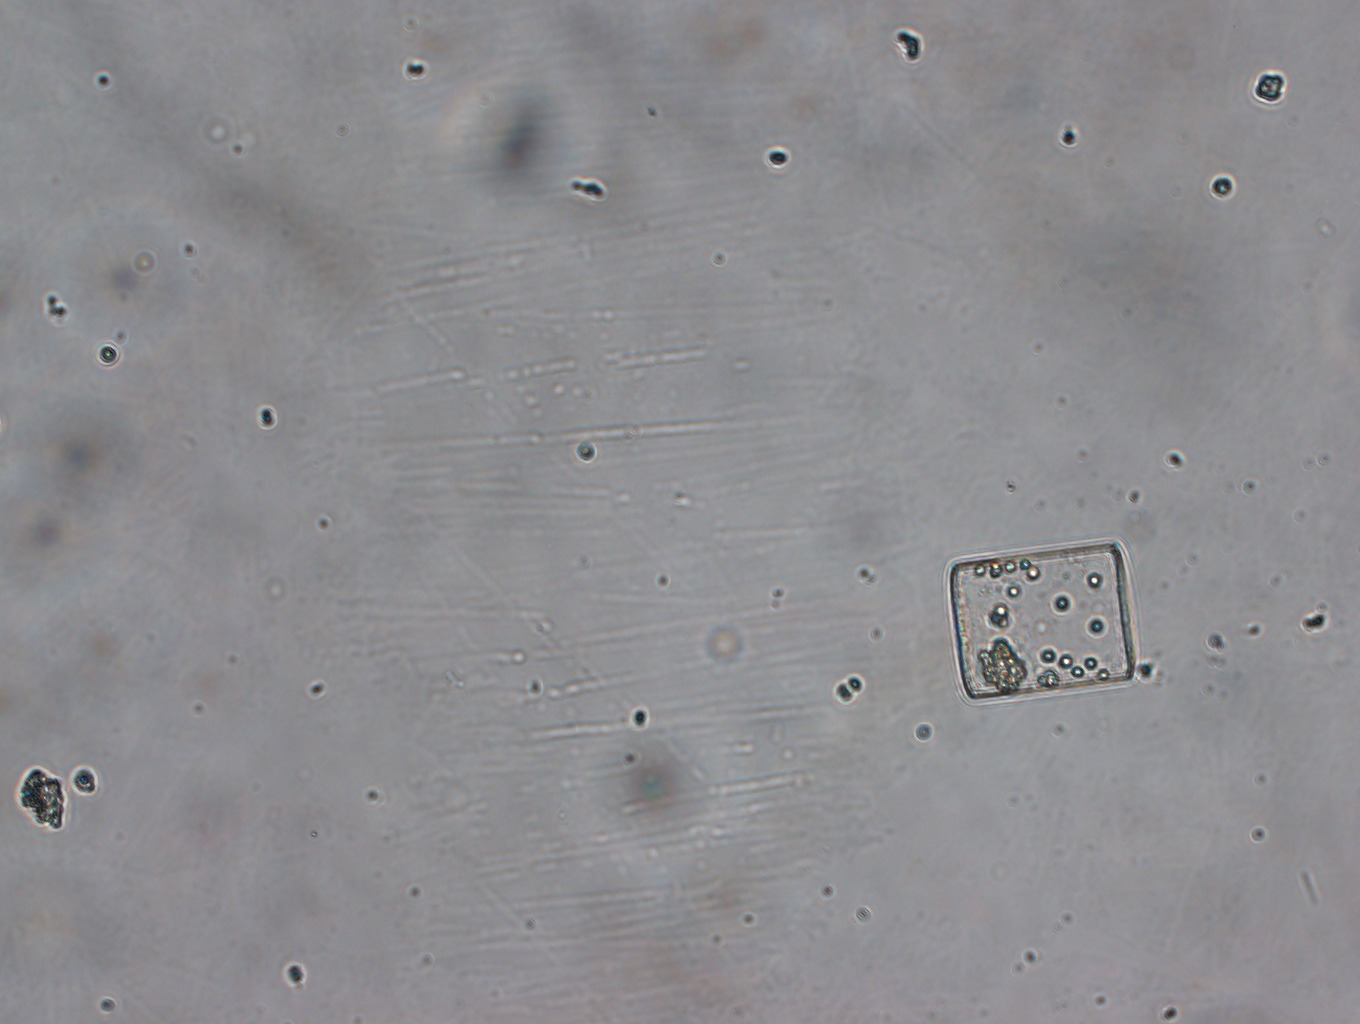guinardia flaccida: (946, 540, 1134, 701)
